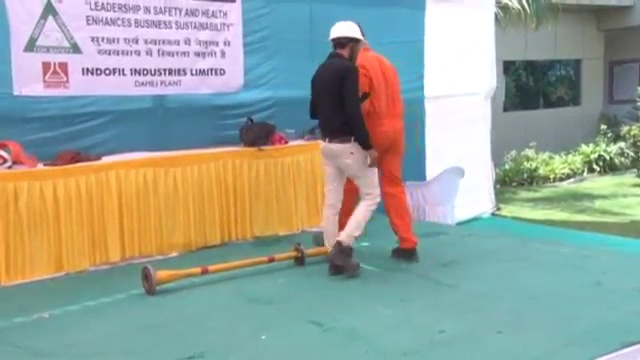helmet: (327, 20, 365, 48)
helmet_on: (325, 19, 365, 58)
person: (307, 20, 383, 288), (353, 37, 419, 263)
